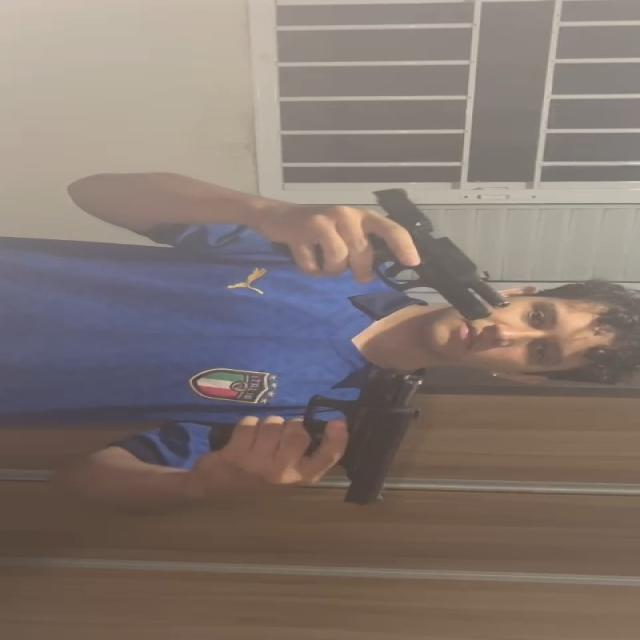gun: (370, 186, 507, 321), (306, 372, 424, 504)
